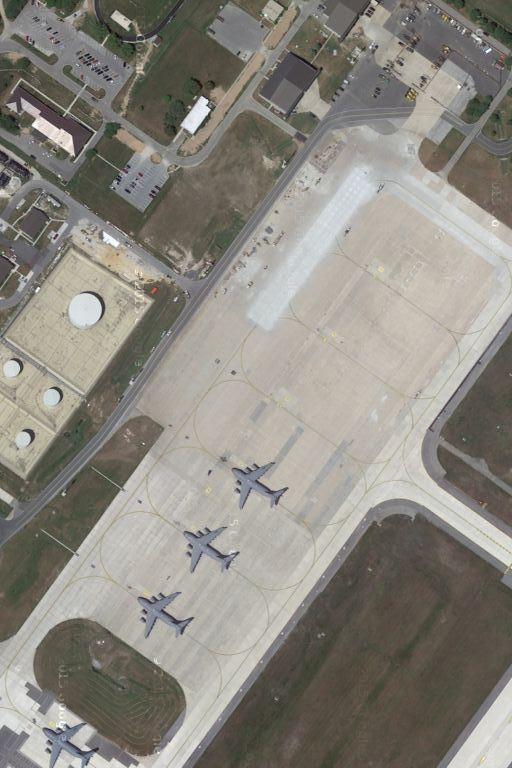C-17: (178, 525, 243, 577), (135, 588, 194, 644), (230, 458, 286, 514), (39, 718, 96, 768)
